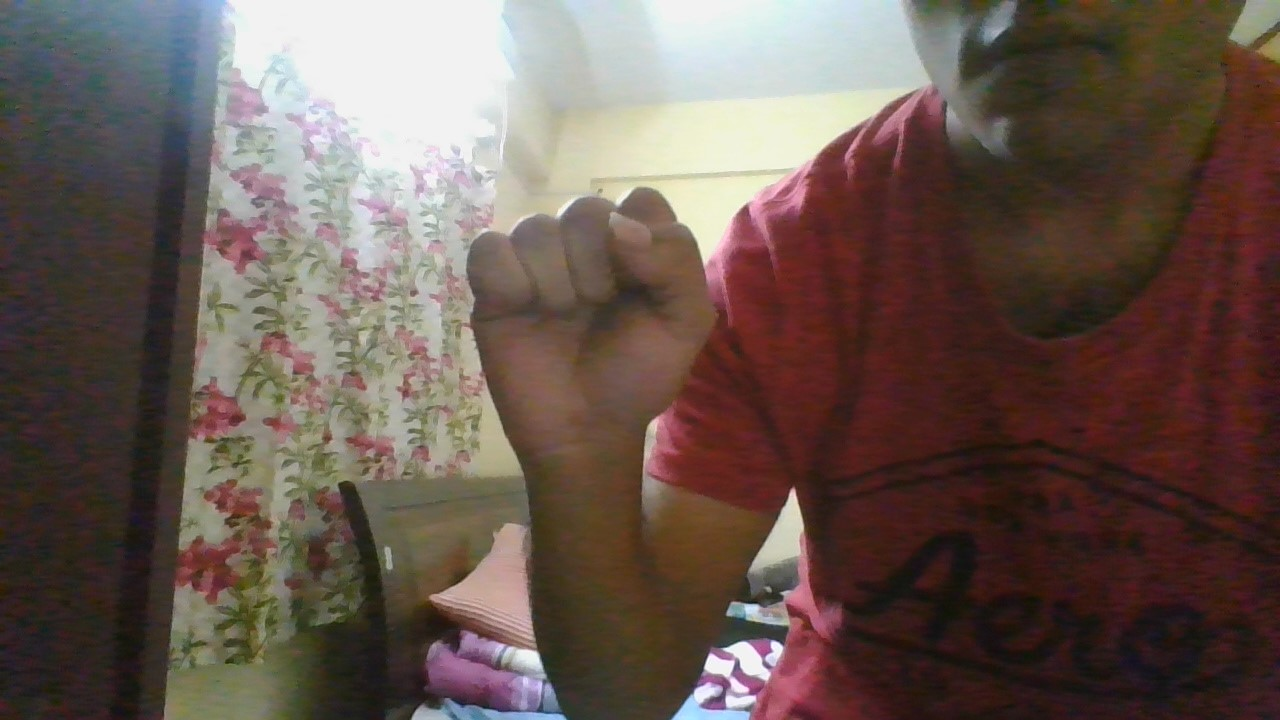s: (461, 182, 721, 454)
